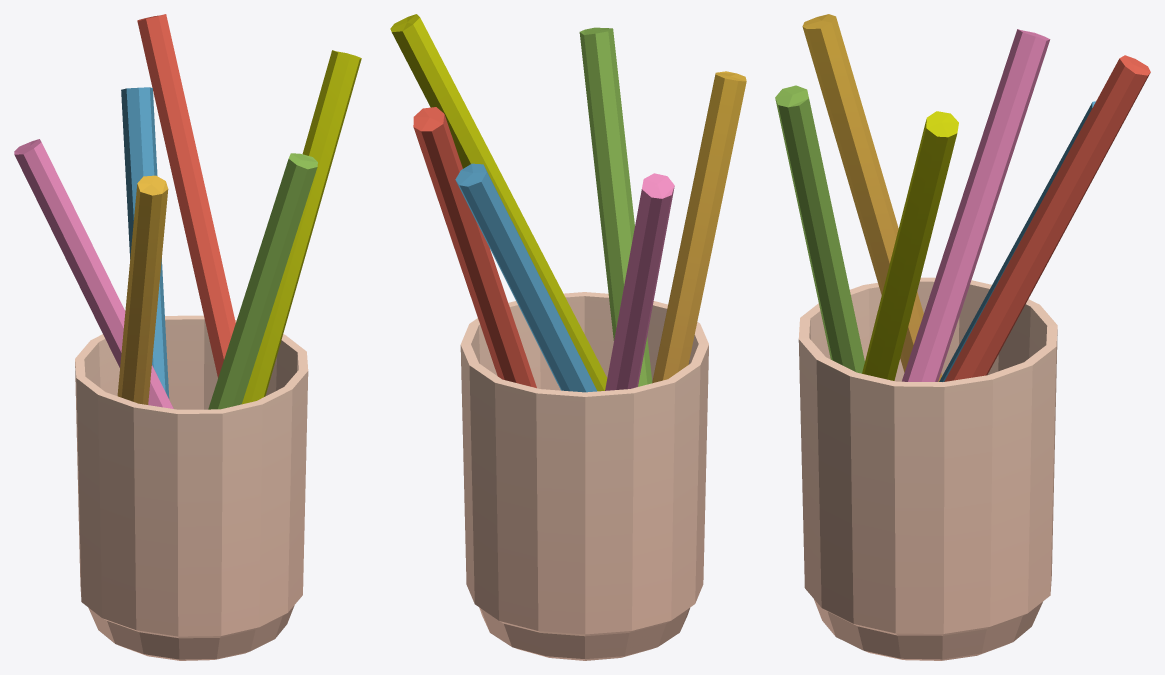
File: pens1.fbx
3 views of the same model, side by side, from view 1: azimuth 30°, elevation 25°; view 2: azimuth 150°, elevation 25°; view 3: azimuth 270°, elevation 25° (orthographic). The views are drawn at different scales.
Parts seen in each view (by area): view 1: pens1; view 2: pens1; view 3: pens1.
Part boxes in pixels (bbox=[...]): pens1: bbox=[14, 14, 361, 660]; pens1: bbox=[390, 14, 746, 660]; pens1: bbox=[775, 14, 1150, 660].
Size of the model in its own units: 1.07 by 1.8 by 1.04.
